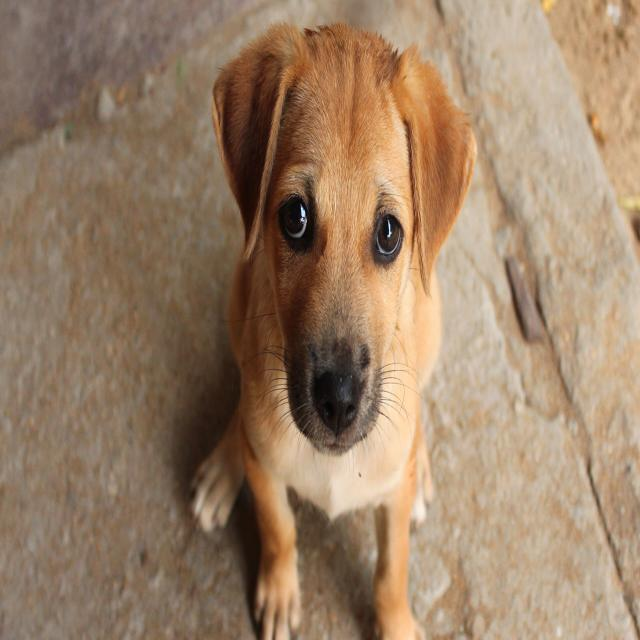eye: (278, 191, 314, 251), (372, 209, 406, 267)
